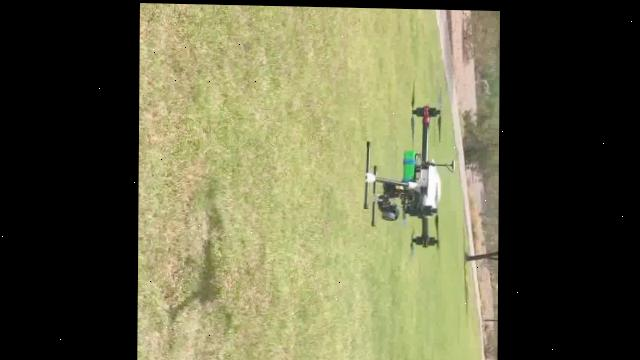drone: (358, 71, 466, 299)
